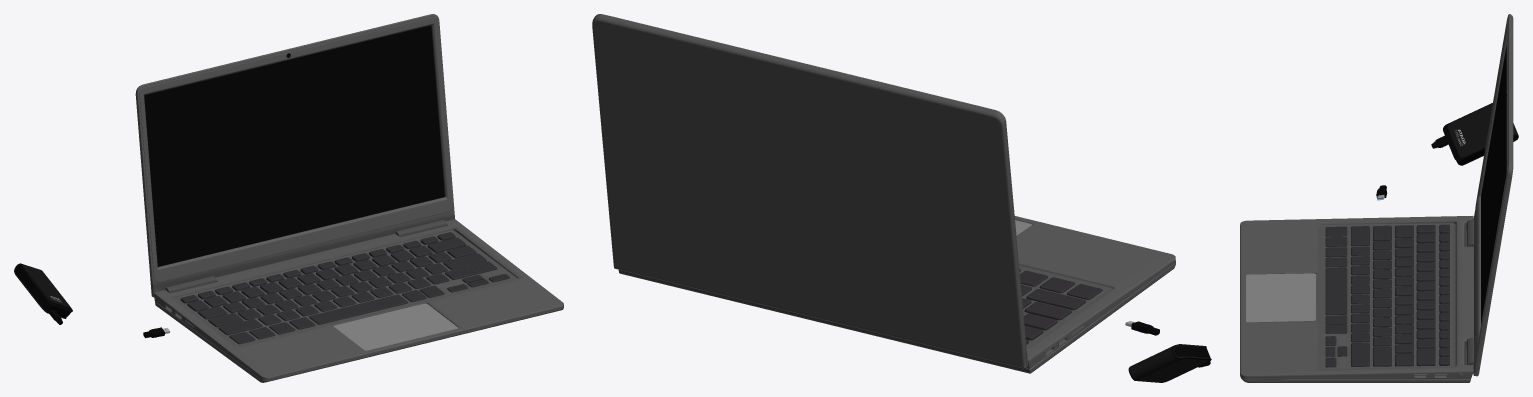
Rendered from ssh.glb.
The picture shows the model from 3 angles, left to right: view 1: azimuth 30°, elevation 25°; view 2: azimuth 150°, elevation 25°; view 3: azimuth 270°, elevation 25°; orthographic projection. The views are drawn at different scales.
Visible parts, largest first — view 1: Object_2, Object_4, Object_5, Drive; view 2: Object_5, Object_4, Drive; view 3: Object_4, Object_5, Object_2, Drive.
Part boxes in pixels (bbox=[...]): Object_2: bbox=[144, 25, 444, 266]; Object_4: bbox=[154, 219, 563, 380]; Object_5: bbox=[135, 14, 563, 382]; Drive: bbox=[14, 263, 72, 318]; Object_5: bbox=[592, 14, 1175, 373]; Object_4: bbox=[1014, 216, 1175, 368]; Drive: bbox=[1128, 344, 1211, 382]; Object_4: bbox=[1240, 216, 1474, 379]; Object_5: bbox=[1240, 14, 1513, 382]; Object_2: bbox=[1481, 46, 1506, 323]; Drive: bbox=[1443, 103, 1518, 165].
Size of the model in its own units: 8.14 by 3.72 by 4.34.
Materials: 10 (3 with a texture image).
